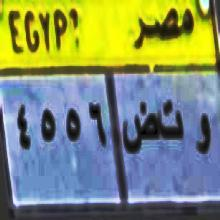4: (16, 90, 33, 160)
5: (38, 101, 60, 156), (66, 102, 82, 153)
6: (88, 100, 110, 150)
daad: (124, 98, 156, 165)
taa: (158, 94, 186, 143)
waw: (193, 113, 214, 166)
